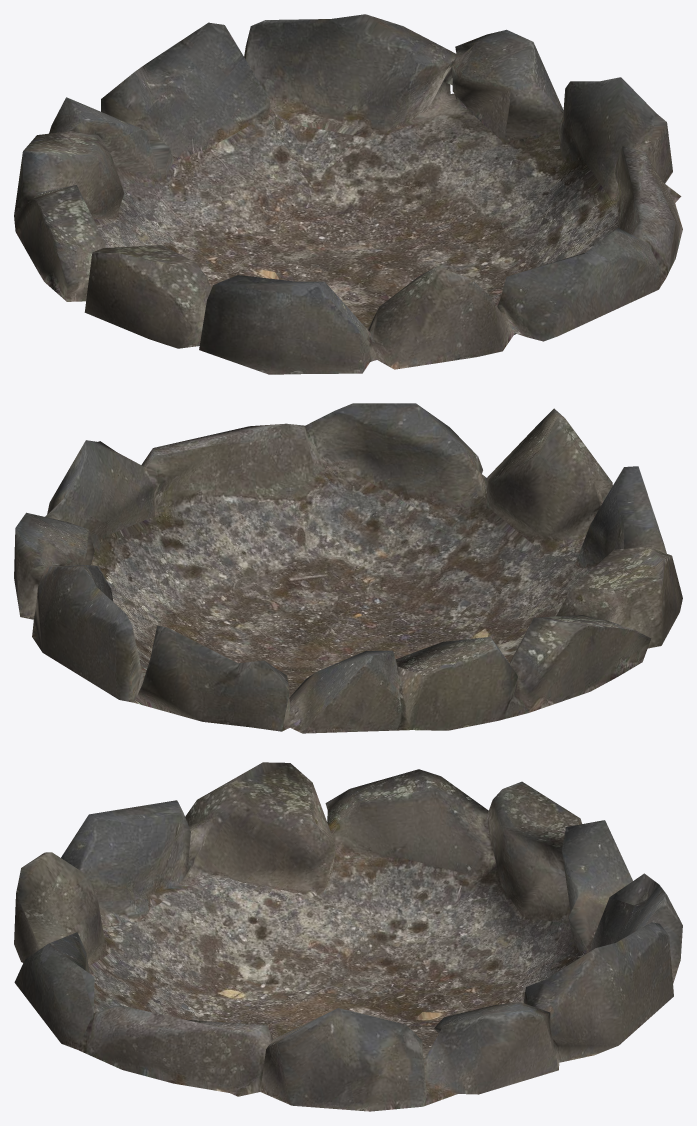
File: stone_fire_pit_web.glb
3 renders of one model, top to bottom at view 1: azimuth 30°, elevation 25°; view 2: azimuth 150°, elevation 25°; view 3: azimuth 270°, elevation 25°, orthographic.
Visible parts, largest first — view 1: stone_fire_pit; view 2: stone_fire_pit; view 3: stone_fire_pit.
Boxes of the visible parts, x1=… form: stone_fire_pit: x1=14, y1=14, x2=682, y2=374; stone_fire_pit: x1=14, y1=403, x2=682, y2=733; stone_fire_pit: x1=14, y1=762, x2=682, y2=1111.
Size of the model in its own units: 1.44 by 0.3811 by 1.43.
1 material, 1 textured.
